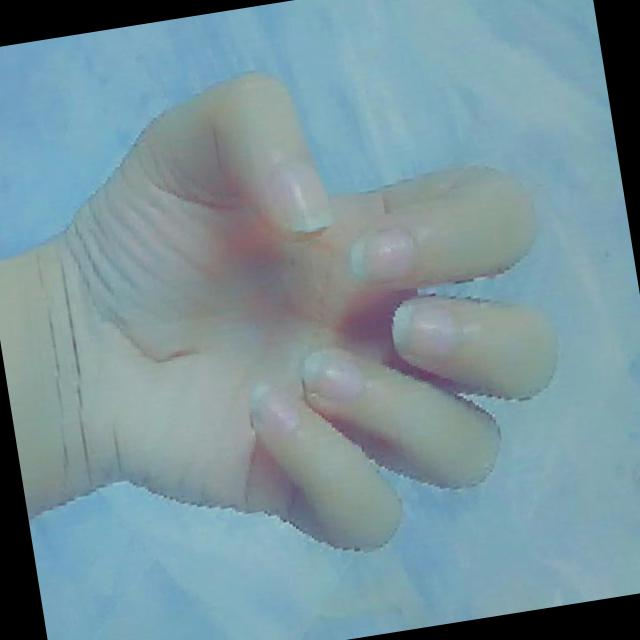Nail: (271, 157, 333, 233), (349, 226, 414, 284), (392, 300, 457, 358), (302, 353, 362, 402), (249, 382, 299, 437)
